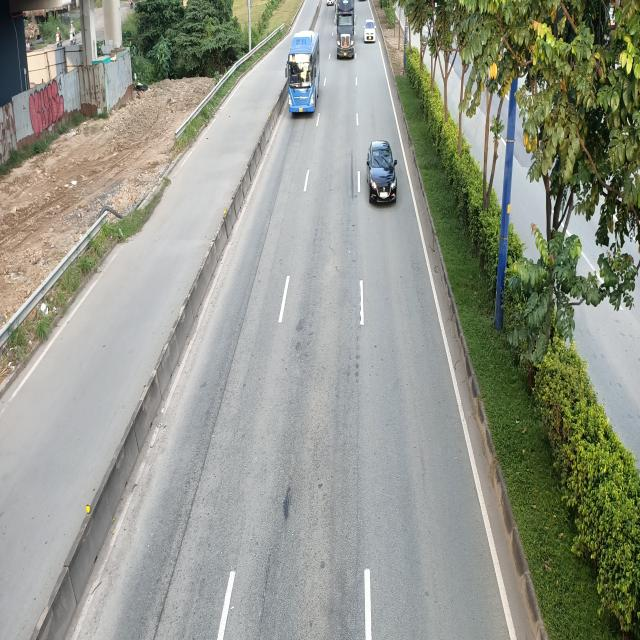car: (366, 141, 398, 204), (362, 20, 376, 44)
coach: (285, 32, 321, 117)
container: (336, 0, 358, 58)
